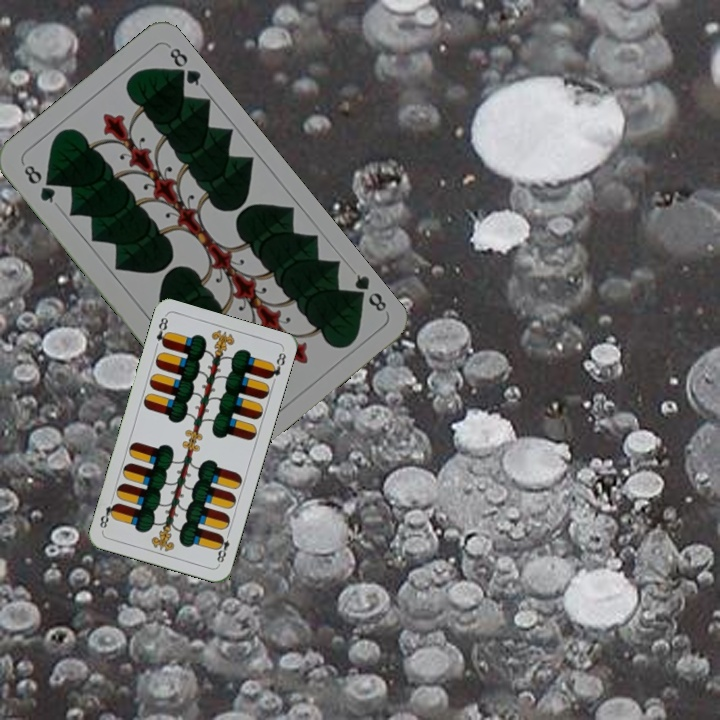E8: (212, 528, 233, 568), (152, 313, 172, 350)
G8: (346, 270, 389, 315), (19, 160, 58, 206)
